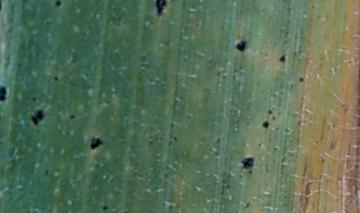tarspot: (30, 109, 45, 125), (155, 1, 167, 17), (89, 137, 103, 149), (241, 156, 255, 168), (235, 39, 247, 52), (1, 85, 8, 102), (260, 119, 270, 129), (279, 54, 287, 64), (297, 74, 305, 83), (54, 1, 62, 8), (52, 75, 60, 82), (69, 113, 76, 121), (171, 135, 179, 142), (44, 168, 50, 177), (246, 168, 253, 175), (244, 201, 251, 208), (101, 205, 109, 211), (31, 95, 37, 102), (267, 108, 273, 115), (256, 140, 262, 147), (1, 1, 3, 11)
